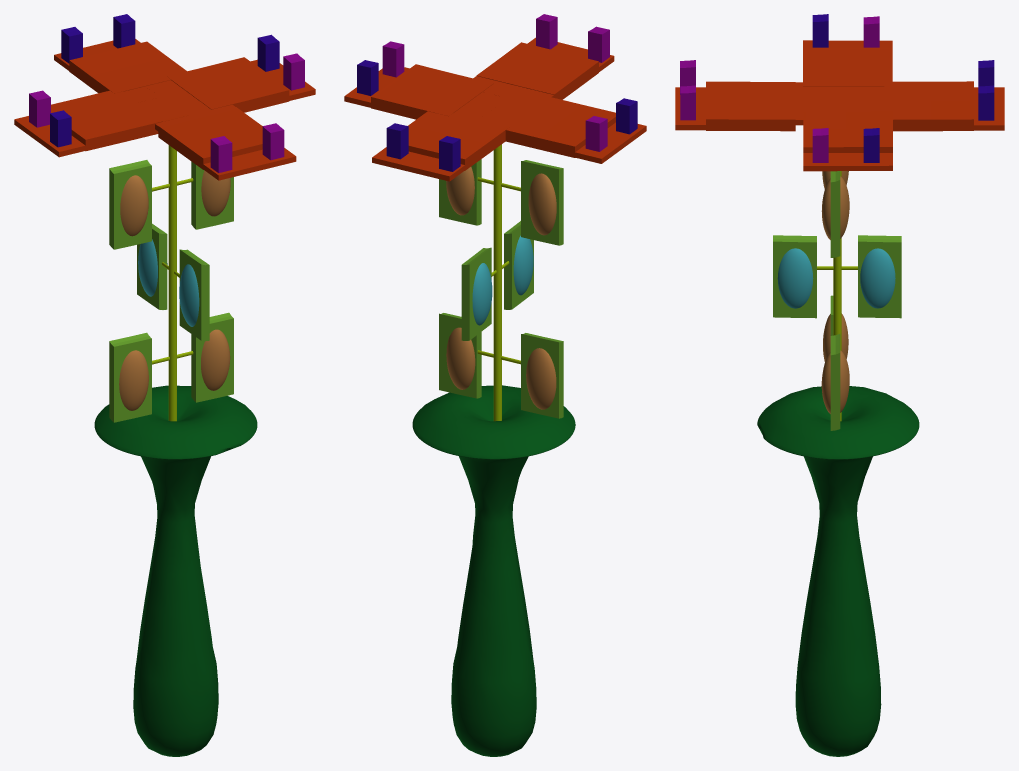
File: Flower1.fbx
3 views of the same model, side by side, from view 1: azimuth 30°, elevation 25°; view 2: azimuth 150°, elevation 25°; view 3: azimuth 270°, elevation 25° (orthographic).
Visible parts, largest first — view 1: Plantbase1, Flowerpetal3, Flowerpetal2, Flowerpetal4, Flowerpetal1, Stem, Topleaf2, Botleaf2, Botleaf1, Midleaf1, leafInsideorangeBot2, leafInsideorangeBot1 (+14 smaller); view 2: Plantbase1, Flowerpetal3, Flowerpetal4, Flowerpetal1, Flowerpetal2, Stem, Topleaf2, Botleaf2, Botleaf1, Midleaf2, leafInsideorangeBot2, leafInsideorangeTop1 (+14 smaller); view 3: Plantbase1, Flowerpetal2, Flowerpetal1, Flowerpetal4, Flowerpetal3, Midleaf2, Midleaf1, leafInsideblu, leafInsideblue, Botleaf1, Topleaf1, leafInsideorangeBot1 (+8 smaller).
Part boxes in pixels (x1,y1,x2,y2): Plantbase1: (94,385,257,756); Flowerpetal3: (14,90,188,157); Flowerpetal2: (155,101,296,180); Flowerpetal4: (146,57,315,112); Flowerpetal1: (54,39,186,102); Stem: (168,145,176,421); Topleaf2: (109,160,151,249); Botleaf2: (109,332,151,422); Botleaf1: (191,312,233,402); Midleaf1: (179,249,209,341); leafInsideorangeBot2: (119,350,148,410); leafInsideorangeBot1: (201,329,230,390); Plantbase1: (412,385,575,756); Flowerpetal3: (494,89,646,163); Flowerpetal4: (344,64,504,119); Flowerpetal1: (372,108,515,181); Flowerpetal2: (473,37,614,99); Stem: (493,144,501,421); Topleaf2: (521,160,563,245); Botleaf2: (521,333,563,418); Botleaf1: (439,313,481,398); Midleaf2: (461,247,491,340); leafInsideorangeBot2: (526,348,556,409); leafInsideorangeTop1: (528,173,556,235); Plantbase1: (757,386,919,756); Flowerpetal2: (675,81,825,131); Flowerpetal1: (854,81,1004,131); Flowerpetal4: (803,97,892,171); Flowerpetal3: (803,40,892,98); Midleaf2: (858,235,901,318); Midleaf1: (773,235,816,318); leafInsideblu: (860,248,895,308); leafInsideblue: (777,248,813,308); Botleaf1: (830,334,840,430); Topleaf1: (830,171,840,257); leafInsideorangeBot1: (821,350,849,413).
Size of the model in its own units: 6.79 by 16.97 by 7.53.
